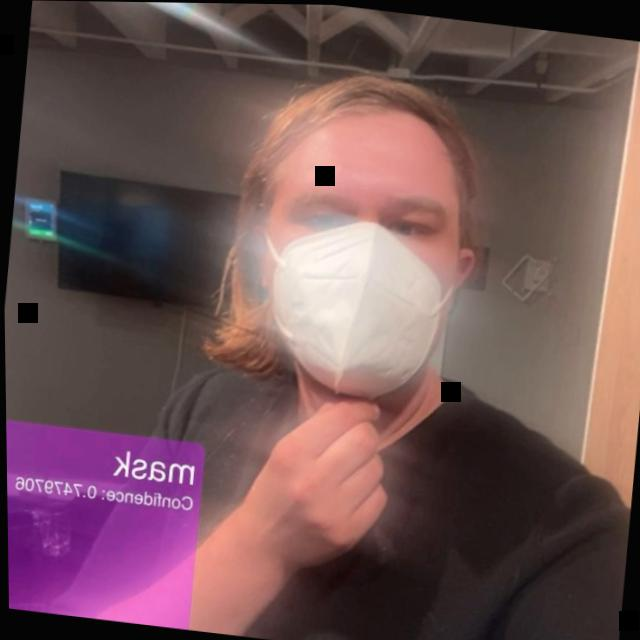Mask: (202, 56, 502, 419)
